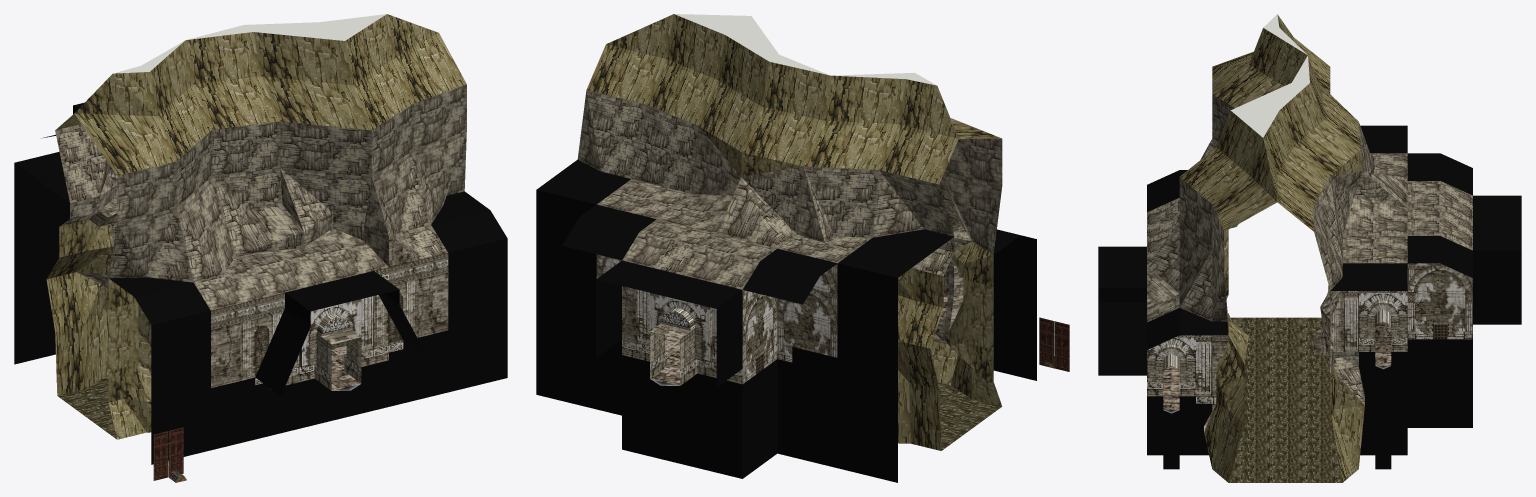
Rendered from MAP053.obj.
3 views of the same model, side by side, from view 1: azimuth 30°, elevation 25°; view 2: azimuth 150°, elevation 25°; view 3: azimuth 270°, elevation 25° (orthographic). The views are drawn at different scales.
Visible parts, largest first — view 1: mesh_54, mesh_55, mesh_64, mesh_66, mesh_67, mesh_53, mesh_58, mesh_65, mesh_59, mesh_45, mesh_75, mesh_74 (+13 smaller); view 2: mesh_54, mesh_55, mesh_58, mesh_67, mesh_63, mesh_53, mesh_61, mesh_66, mesh_68, mesh_45, mesh_62, mesh_60 (+14 smaller); view 3: mesh_54, mesh_55, mesh_18, mesh_58, mesh_61, mesh_65, mesh_36, mesh_70, mesh_34, mesh_56, mesh_28, mesh_63 (+17 smaller).
Part boxes in pixels (x1,y1,x2,y2): mesh_54: (55, 84, 466, 310); mesh_55: (55, 14, 466, 175); mesh_64: (431, 191, 507, 392); mesh_66: (109, 277, 210, 464); mesh_67: (14, 151, 69, 364); mesh_53: (46, 219, 113, 395); mesh_58: (211, 330, 448, 450); mesh_65: (255, 271, 428, 395); mesh_59: (240, 337, 418, 442); mesh_45: (108, 278, 151, 439); mesh_75: (211, 275, 448, 387); mesh_74: (240, 275, 418, 380); mesh_54: (577, 90, 1002, 289); mesh_55: (586, 14, 1001, 184); mesh_58: (596, 339, 837, 478); mesh_67: (837, 229, 953, 482); mesh_63: (536, 159, 630, 409); mesh_53: (898, 268, 943, 450); mesh_61: (596, 260, 742, 387); mesh_66: (993, 229, 1036, 380); mesh_68: (742, 263, 837, 368); mesh_45: (949, 241, 1002, 406); mesh_62: (562, 204, 656, 260); mesh_60: (743, 248, 836, 304); mesh_54: (1147, 94, 1472, 334); mesh_55: (1180, 14, 1362, 231); mesh_18: (1228, 317, 1342, 482); mesh_58: (1147, 339, 1472, 469); mesh_61: (1473, 195, 1521, 324); mesh_65: (1098, 246, 1146, 375); mesh_36: (1204, 316, 1248, 482); mesh_70: (1407, 263, 1472, 324); mesh_34: (1330, 381, 1364, 482); mesh_56: (1231, 14, 1309, 137); mesh_28: (1359, 293, 1407, 338); mesh_63: (1330, 263, 1407, 290).
Size of the model in its own units: 320 by 275 by 333.
18 materials, 18 textured.
